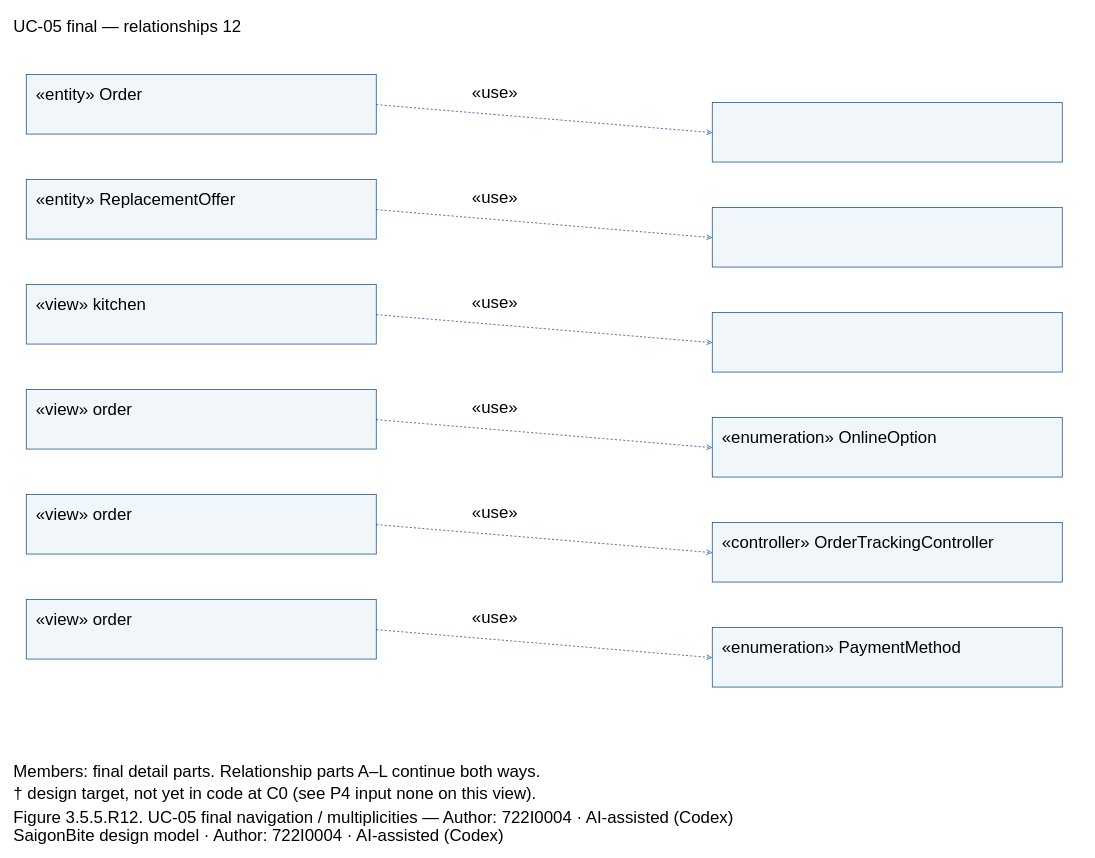
Image size: 1095x858. Some labels were removed from this diagram. The shapes that lost their labels are listed below. From the top down, each one's centre as x and y in pixels, then its label:
At (x=887, y=132): "«enumeration» OrderState".
At (x=887, y=237): "«enumeration» OfferState".
At (x=887, y=342): "«controller» KitchenController".
